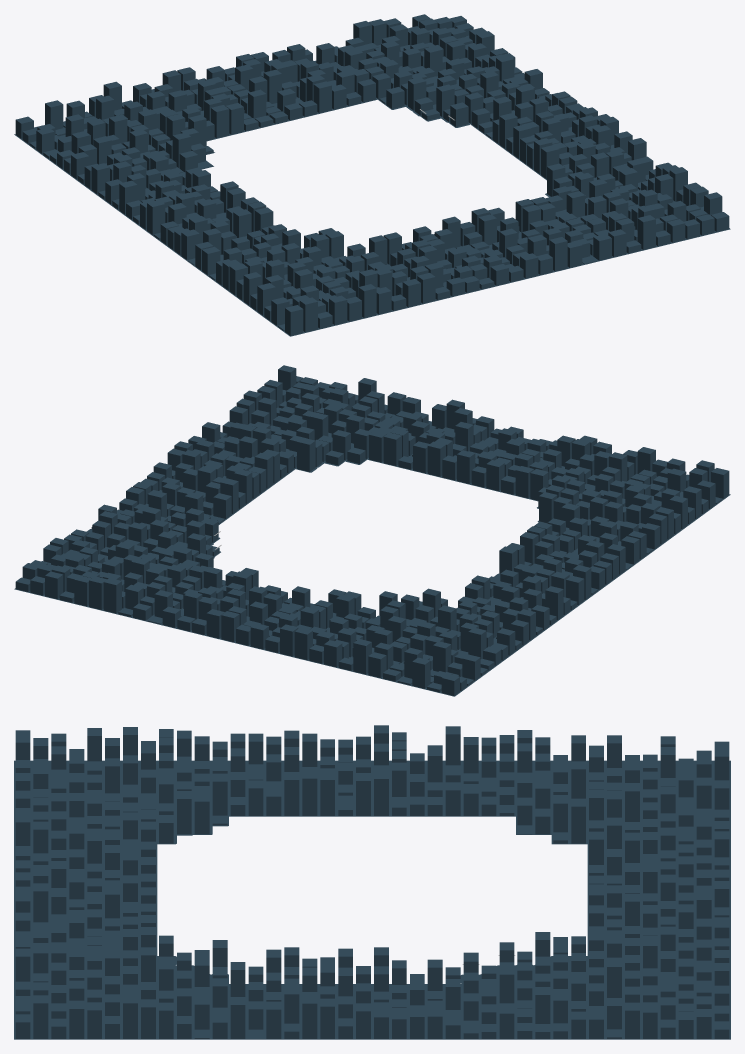
File: city outskirts.fbx
3 renders of one model, top to bottom at view 1: azimuth 30°, elevation 25°; view 2: azimuth 150°, elevation 25°; view 3: azimuth 270°, elevation 25°, orthographic. The views are drawn at different scales.
Parts seen in each view (by area): view 1: city_outskirts; view 2: city_outskirts; view 3: city_outskirts.
Part boxes in pixels (left/top/right/bottom): city_outskirts: left=14, top=14, right=730, bottom=336; city_outskirts: left=14, top=365, right=730, bottom=696; city_outskirts: left=14, top=725, right=730, bottom=1039.
Size of the model in its own units: 43.2 by 2.69 by 46.91.
